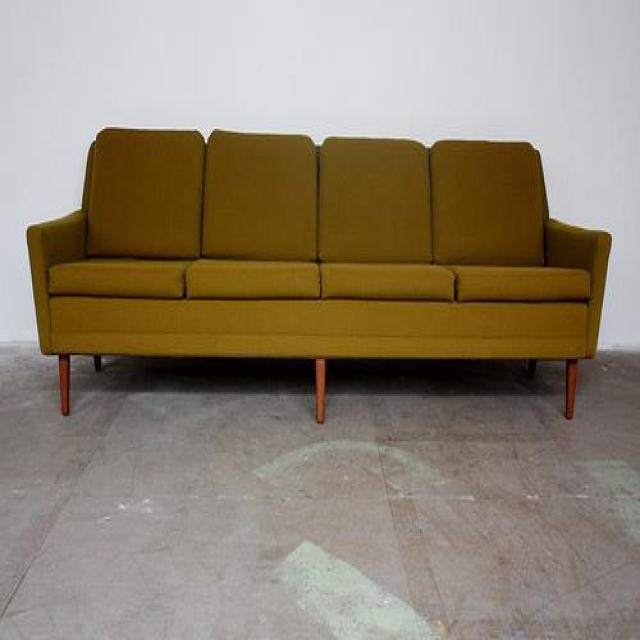sofa: (26, 124, 614, 426)
